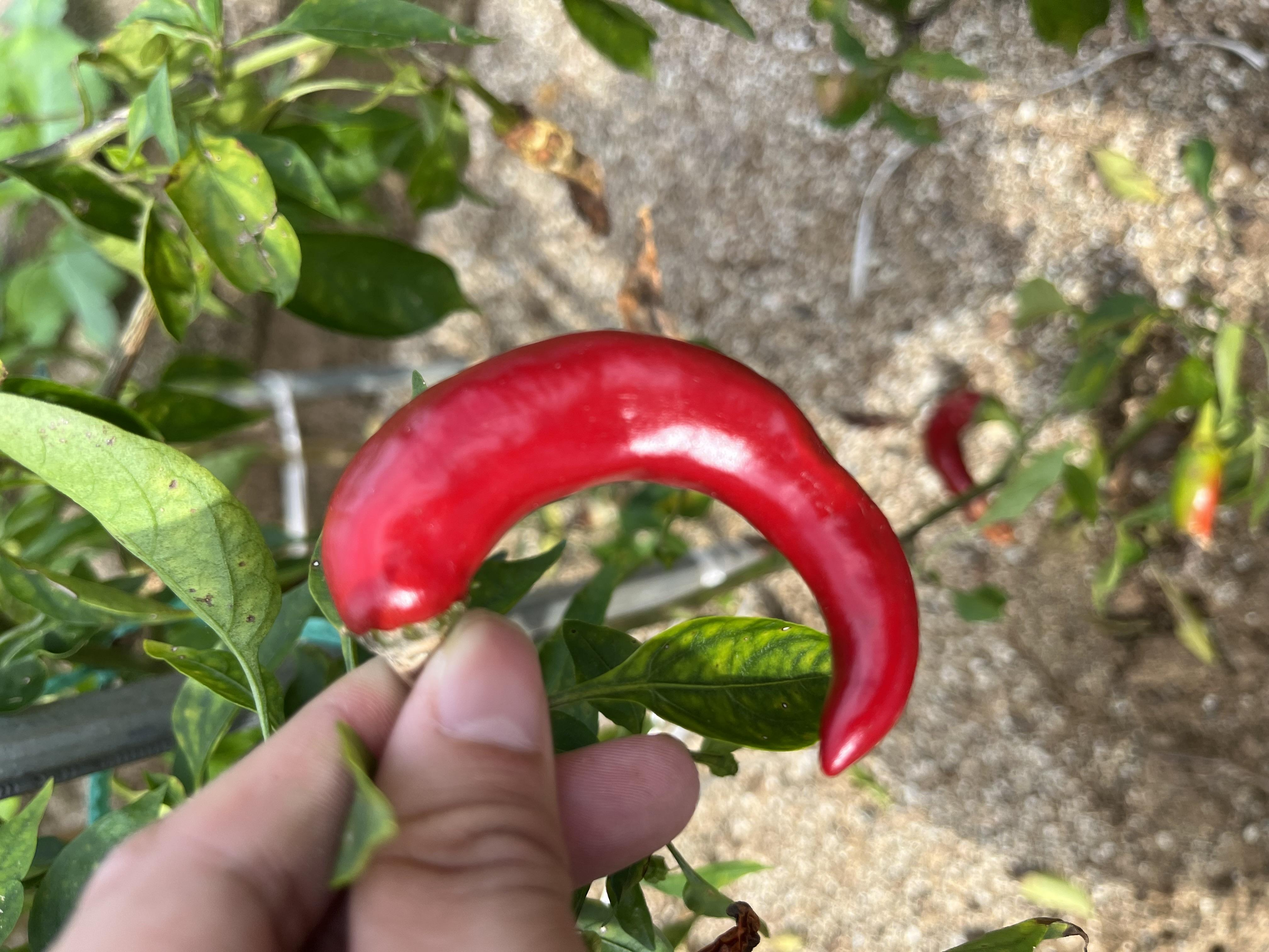Buah Cabai Sehat: (211, 230, 849, 695)
